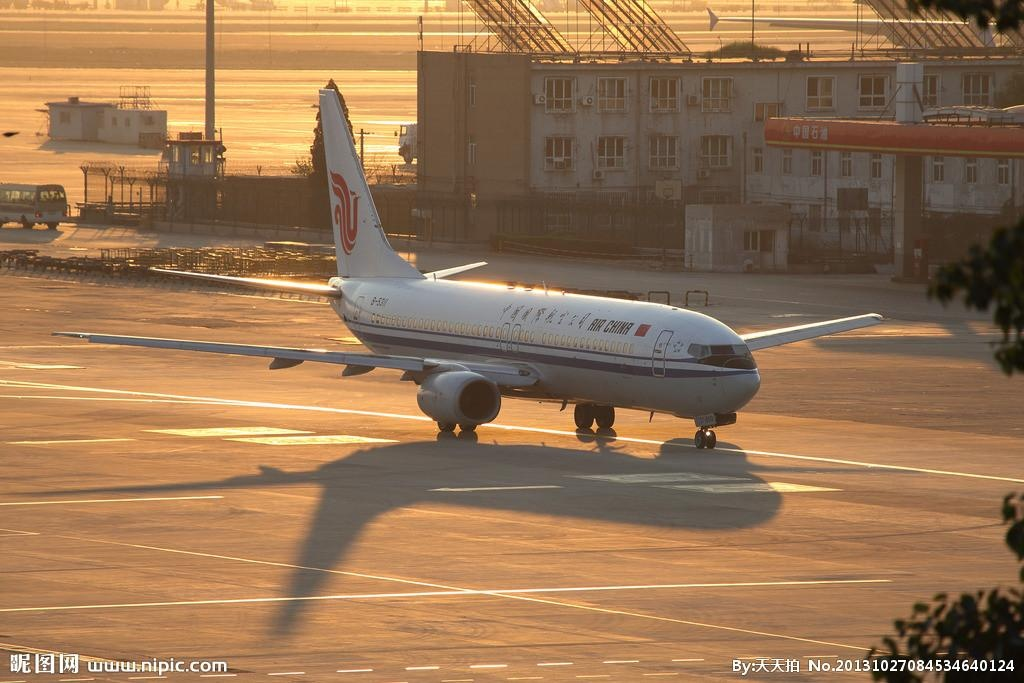airplane: (65, 84, 890, 476)
